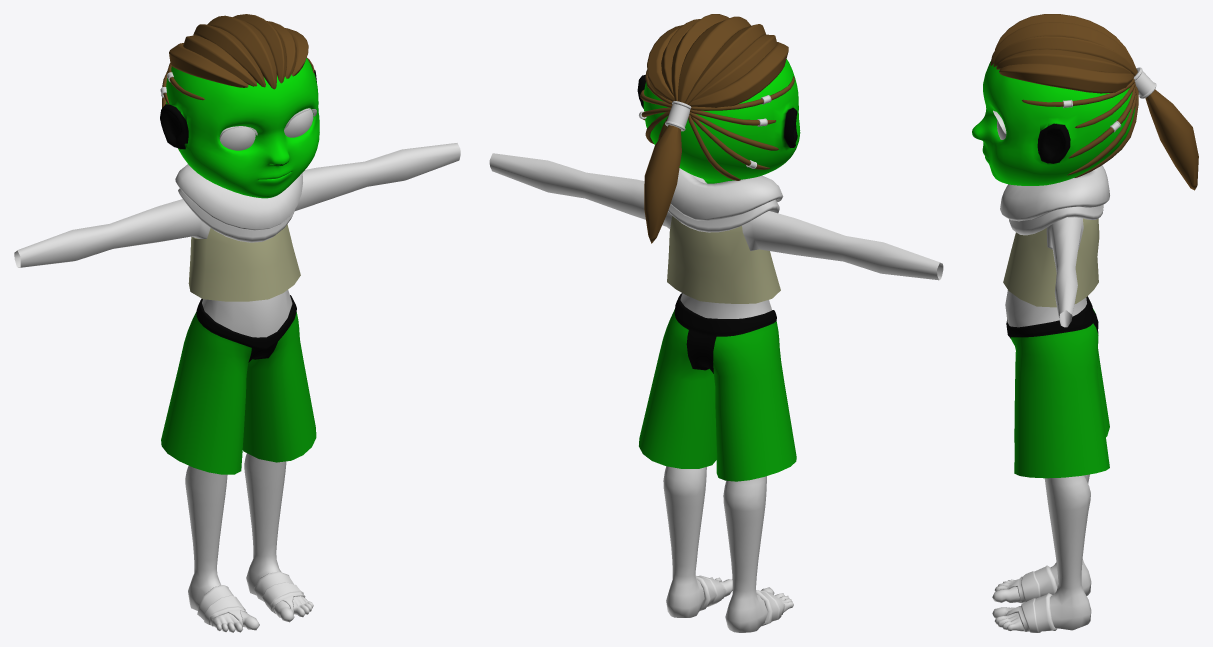
File: playerTest.fbx
3 renders of one model, left to right at view 1: azimuth 30°, elevation 25°; view 2: azimuth 150°, elevation 25°; view 3: azimuth 270°, elevation 25°, orthographic.
Parts seen in each view (by area): view 1: pants, ear2, body, footWithToes5, hairTop, shirt, scarf, footWithToes4, eyes; view 2: pants, body, footWithToes5, hairTop, ear2, shirt, scarf, braids, ponytail, footWithToes4; view 3: pants, ear2, hairTop, footWithToes5, shirt, scarf, body, ponytail, braids, footWithToes4, hairHolder.
Boxes of the visible parts, x1=… form: pants: x1=161, y1=295, x2=316, y2=474; ear2: x1=160, y1=58, x2=319, y2=198; body: x1=14, y1=143, x2=460, y2=337; footWithToes5: x1=185, y1=453, x2=313, y2=632; hairTop: x1=169, y1=14, x2=308, y2=89; shirt: x1=188, y1=224, x2=300, y2=301; scarf: x1=175, y1=164, x2=302, y2=242; footWithToes4: x1=197, y1=571, x2=305, y2=627; eyes: x1=220, y1=109, x2=313, y2=150; pants: x1=639, y1=293, x2=796, y2=481; body: x1=489, y1=153, x2=943, y2=318; footWithToes5: x1=663, y1=466, x2=793, y2=632; hairTop: x1=647, y1=14, x2=788, y2=107; ear2: x1=637, y1=59, x2=800, y2=183; shirt: x1=667, y1=216, x2=780, y2=303; scarf: x1=668, y1=168, x2=783, y2=232; braids: x1=640, y1=70, x2=794, y2=180; ponytail: x1=644, y1=125, x2=681, y2=243; footWithToes4: x1=695, y1=575, x2=785, y2=626; pants: x1=1006, y1=296, x2=1109, y2=478; ear2: x1=972, y1=61, x2=1135, y2=185; hairTop: x1=990, y1=14, x2=1137, y2=93; footWithToes5: x1=992, y1=474, x2=1091, y2=631; shirt: x1=1003, y1=218, x2=1099, y2=307; scarf: x1=1000, y1=165, x2=1109, y2=235; body: x1=1005, y1=217, x2=1086, y2=327; ponytail: x1=1145, y1=89, x2=1198, y2=190; braids: x1=1022, y1=78, x2=1138, y2=177; footWithToes4: x1=1006, y1=565, x2=1057, y2=632; hairHolder: x1=1133, y1=67, x2=1156, y2=98.
Size of the model in its own units: 109 by 139 by 48.21.
